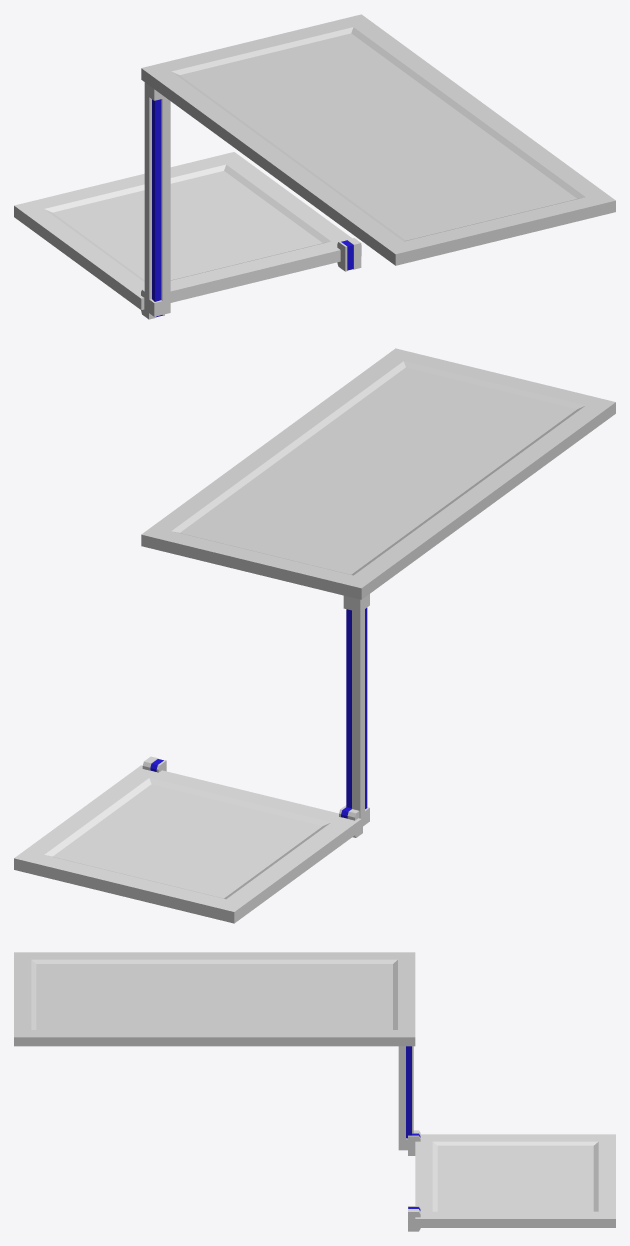
The model's file is Elevator_01.fbx.
3 views of the same model, one above another, from view 1: azimuth 30°, elevation 25°; view 2: azimuth 150°, elevation 25°; view 3: azimuth 270°, elevation 25° (orthographic). The views are drawn at different scales.
Visible parts, largest first — view 1: Cube.001, Cube, Cube.002; view 2: Cube.001, Cube, Cube.002; view 3: Cube.001, Cube, Cube.002.
Boxes of the visible parts, x1,y1,x2,y2 form: Cube.001: (141,14,615,265); Cube: (14,152,361,319); Cube.002: (144,82,170,316); Cube.001: (141,348,615,599); Cube: (14,756,362,923); Cube.002: (343,594,369,826); Cube.001: (14,952,415,1046); Cube: (408,1130,615,1231); Cube.002: (398,1046,413,1150).
Bounding box in the file's own units: 200 × 216 × 600.
